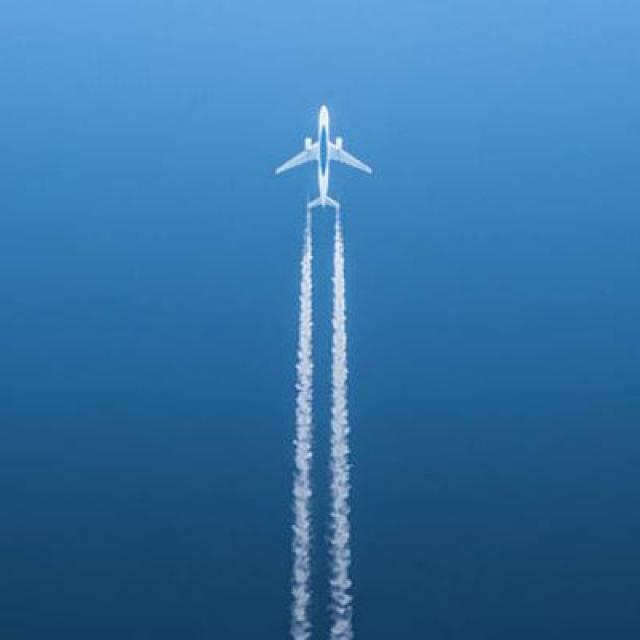Ct: (260, 97, 388, 640)
